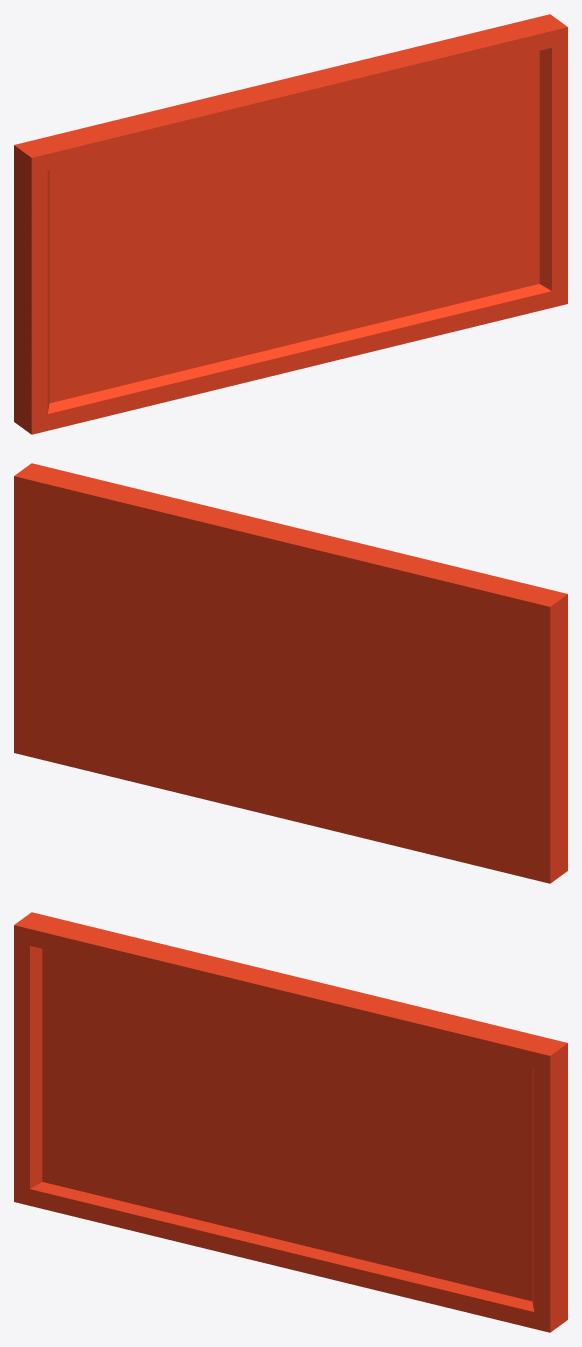
The model's file is SM_Exit_Sign_City.fbx.
3 renders of one model, top to bottom at view 1: azimuth 30°, elevation 25°; view 2: azimuth 150°, elevation 25°; view 3: azimuth 330°, elevation 25°, orthographic.
Parts seen in each view (by area): view 1: SM_Exit_Sign_City; view 2: SM_Exit_Sign_City; view 3: SM_Exit_Sign_City.
Part boxes in pixels (<box>): SM_Exit_Sign_City: <box>14,14,567,434</box>; SM_Exit_Sign_City: <box>14,463,567,883</box>; SM_Exit_Sign_City: <box>14,912,567,1332</box>.
Bounding box in the file's own units: 0.3745 × 0.1847 × 0.0214.
